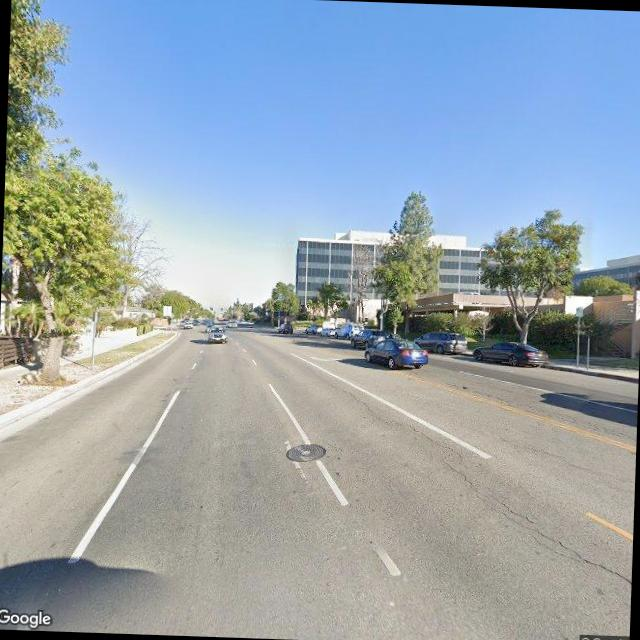crack: (430, 456, 634, 600), (334, 385, 464, 453)
